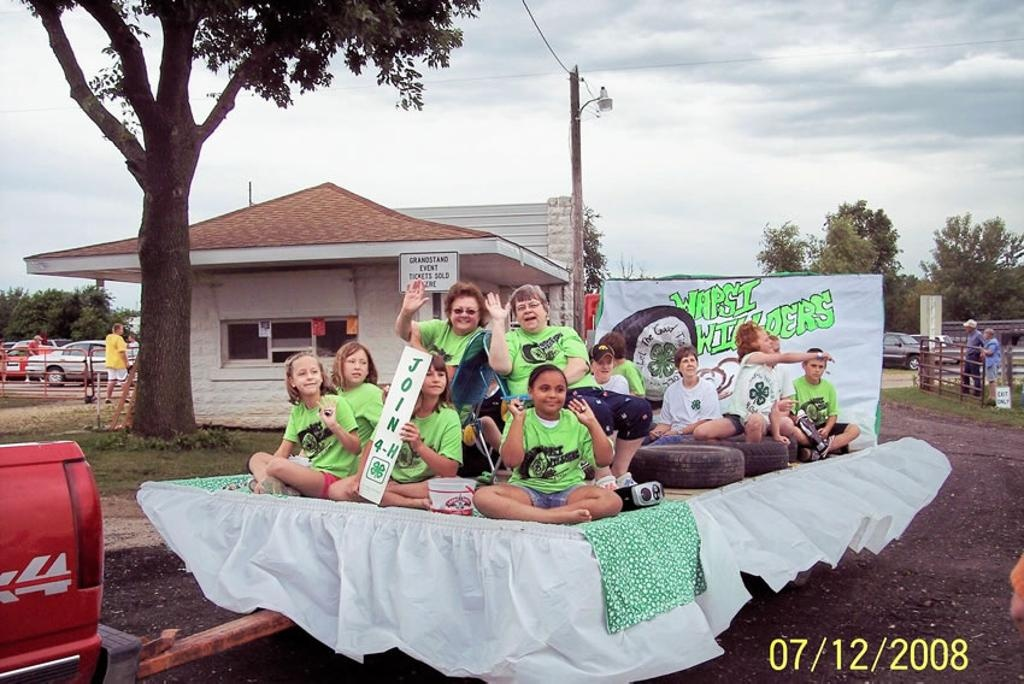human_face: (534, 373, 564, 414), (291, 361, 321, 395), (449, 296, 477, 332), (516, 300, 546, 332), (422, 363, 448, 397), (343, 355, 369, 385), (594, 355, 614, 381), (757, 326, 773, 356), (808, 355, 824, 381), (681, 356, 699, 378), (767, 341, 783, 359), (117, 324, 125, 336), (964, 323, 972, 332), (982, 330, 988, 340), (127, 334, 133, 342)
